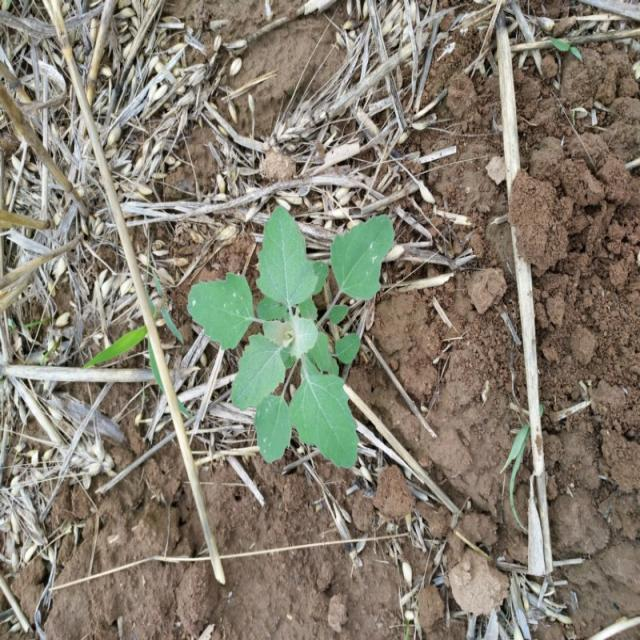goosefoots: (178, 196, 398, 476)
